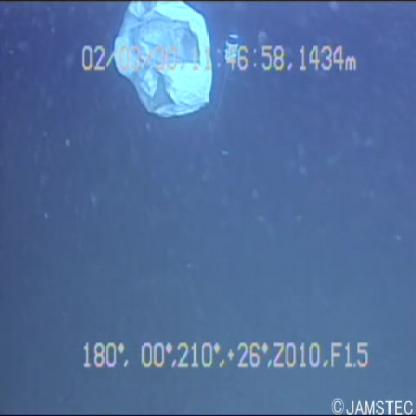Rác: (103, 1, 215, 124)
